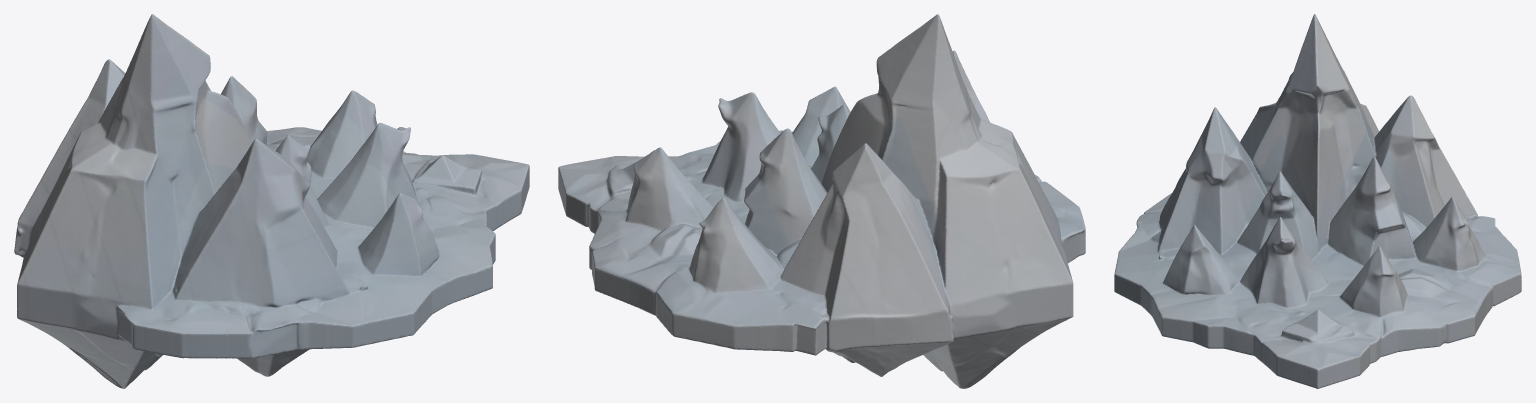
File: terrain_mountain 2.glb
The picture shows the model from 3 angles, left to right: view 1: azimuth 30°, elevation 25°; view 2: azimuth 150°, elevation 25°; view 3: azimuth 270°, elevation 25°; orthographic projection. The views are drawn at different scales.
Visible parts, largest first — view 1: tripo_node_6aa119c7-882c-4772-90da-083faf853f2b; view 2: tripo_node_6aa119c7-882c-4772-90da-083faf853f2b; view 3: tripo_node_6aa119c7-882c-4772-90da-083faf853f2b.
Part boxes in pixels (left/top/right/bottom): tripo_node_6aa119c7-882c-4772-90da-083faf853f2b: left=14, top=14, right=529, bottom=388; tripo_node_6aa119c7-882c-4772-90da-083faf853f2b: left=558, top=14, right=1085, bottom=388; tripo_node_6aa119c7-882c-4772-90da-083faf853f2b: left=1114, top=14, right=1521, bottom=388.
Size of the model in its own units: 1 by 0.685 by 0.8264.
Materials: 1 (1 with a texture image).
